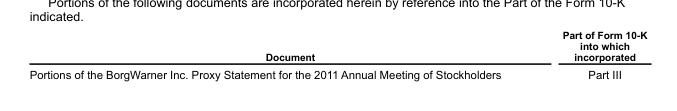table: (28, 28, 646, 80)
table column: (28, 28, 531, 80), (531, 28, 646, 80)
table column header: (28, 28, 646, 51)
table row: (28, 28, 646, 51), (28, 65, 646, 80), (28, 51, 646, 65)
